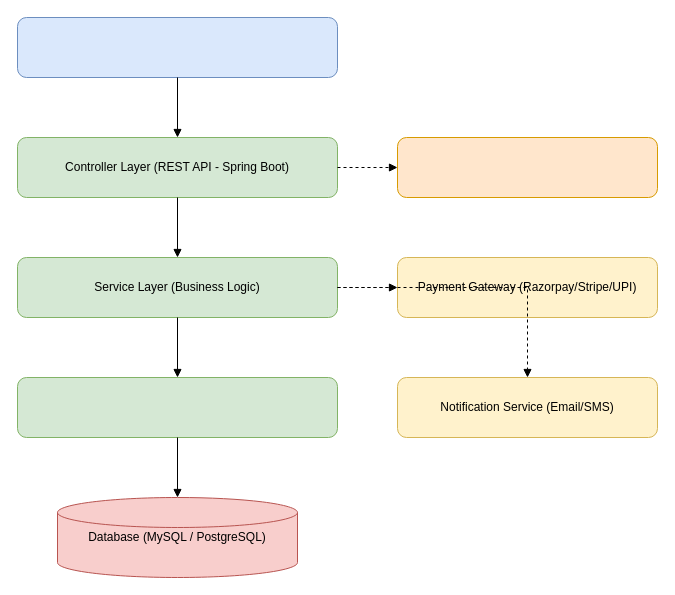
This 675x595 diagram has some shape labels left out. The centre of each missing label's shape, as x and y in pixels:
"Client Layer (Admin/Donor/Beneficiary Browser)" goes at point 177,47.
"Repository Layer (Spring Data JPA)" goes at point 177,407.
"Security Layer (Spring Security + JWT)" goes at point 527,167.
